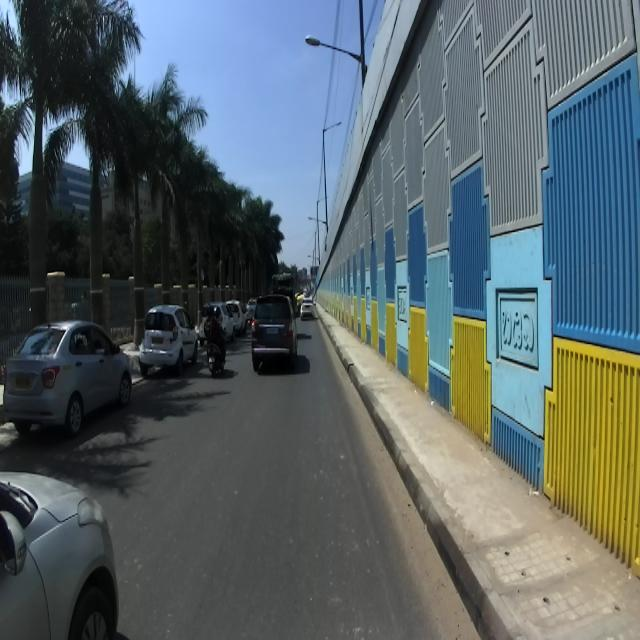car ahead at: (7, 314, 138, 441), (252, 287, 300, 378)
